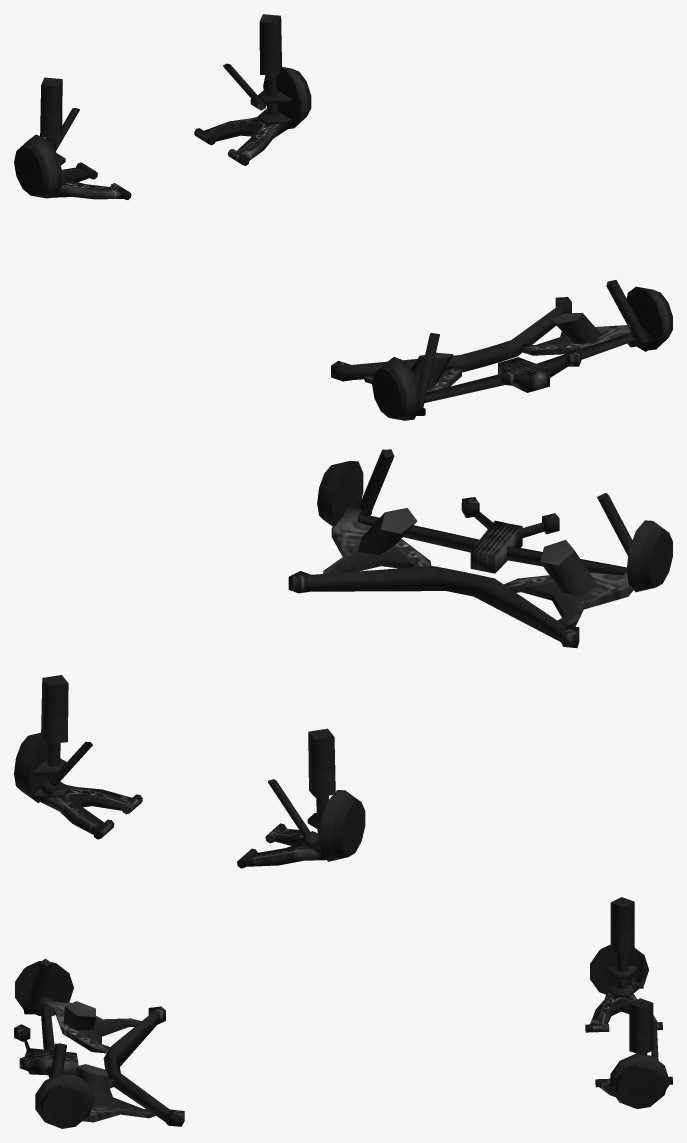
The model's file is tozzo98_suspension_ucb_bottom_lt_0.001_lev3.glb.
3 renders of one model, top to bottom at view 1: azimuth 30°, elevation 25°; view 2: azimuth 150°, elevation 25°; view 3: azimuth 270°, elevation 25°, orthographic. The views are drawn at different scales.
Visible parts, largest first — view 1: tozzo98_suspension_ucb_bottom_lt_0.001_lev3; view 2: tozzo98_suspension_ucb_bottom_lt_0.001_lev3; view 3: tozzo98_suspension_ucb_bottom_lt_0.001_lev3.
Part boxes in pixels (left/top/right/bottom): tozzo98_suspension_ucb_bottom_lt_0.001_lev3: left=14, top=14, right=672, bottom=420; tozzo98_suspension_ucb_bottom_lt_0.001_lev3: left=14, top=449, right=672, bottom=868; tozzo98_suspension_ucb_bottom_lt_0.001_lev3: left=14, top=897, right=672, bottom=1128.
Size of the model in its own units: 1.55 by 0.5248 by 2.96.
Materials: 1 (1 with a texture image).
